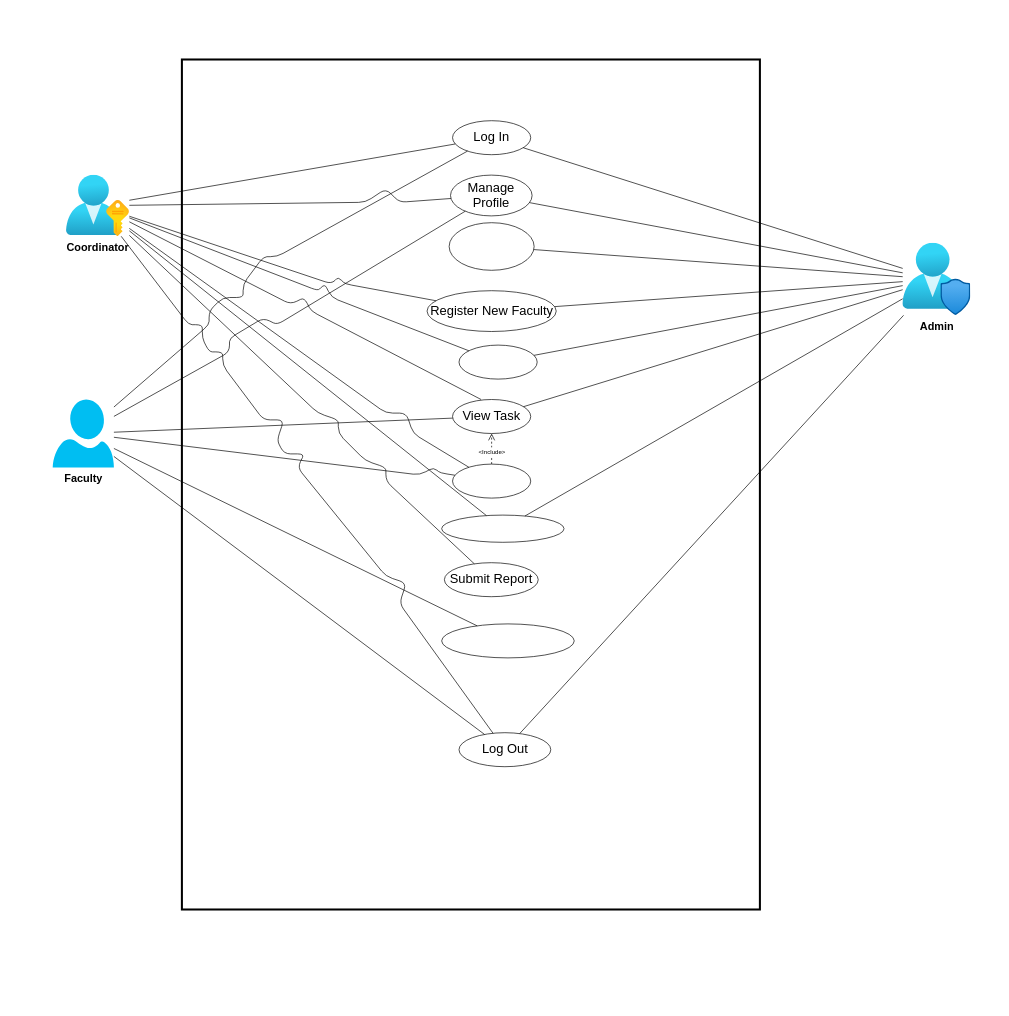
The diagram is 1009 pixels wide and 1016 high, and some of its shapes have lost their labels. Each missing label, with the centre of its shape:
"Assign Co-ordinator" belongs at pixel 491 246.
"Assign Task" belongs at pixel 497 361.
"Input Paper Details" belongs at pixel 507 640.
"Submit Task" belongs at pixel 491 480.
"View Notification" belongs at pixel 502 528.
